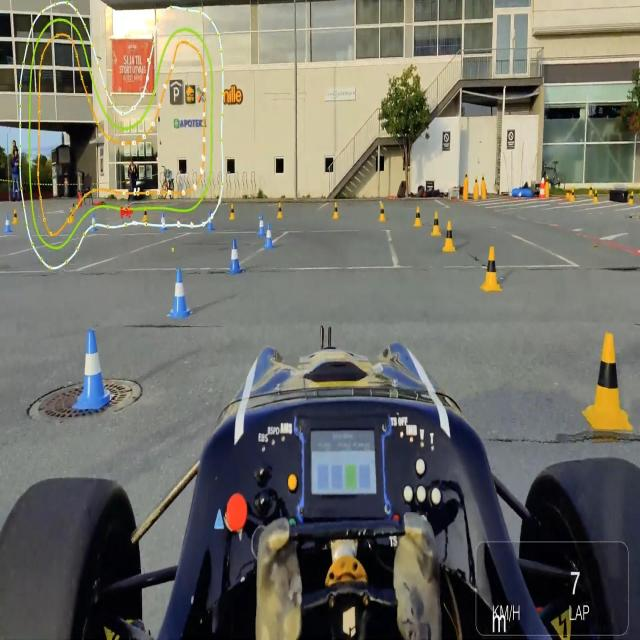blue_cone: (74, 322, 110, 413), (166, 265, 190, 321), (226, 237, 243, 277), (256, 212, 266, 236), (264, 223, 273, 249), (90, 212, 98, 232), (207, 210, 213, 231), (4, 212, 10, 233), (161, 212, 166, 233)
large_orange_cone: (539, 178, 546, 198)
yellow_cone: (581, 325, 633, 437), (478, 244, 502, 293), (442, 219, 457, 254), (430, 209, 442, 238), (412, 205, 422, 229), (378, 200, 388, 224), (331, 200, 340, 220), (276, 202, 284, 220), (229, 202, 235, 222), (143, 208, 148, 224), (13, 209, 18, 224), (70, 208, 74, 224)
